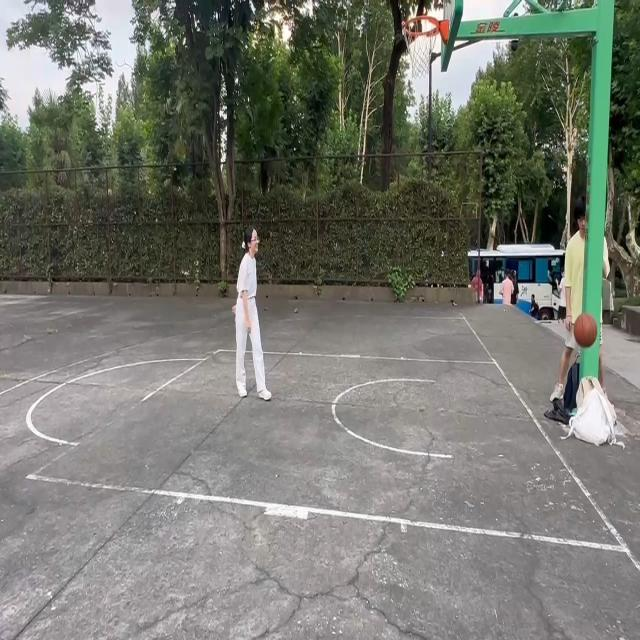rim: (573, 312, 596, 347)
